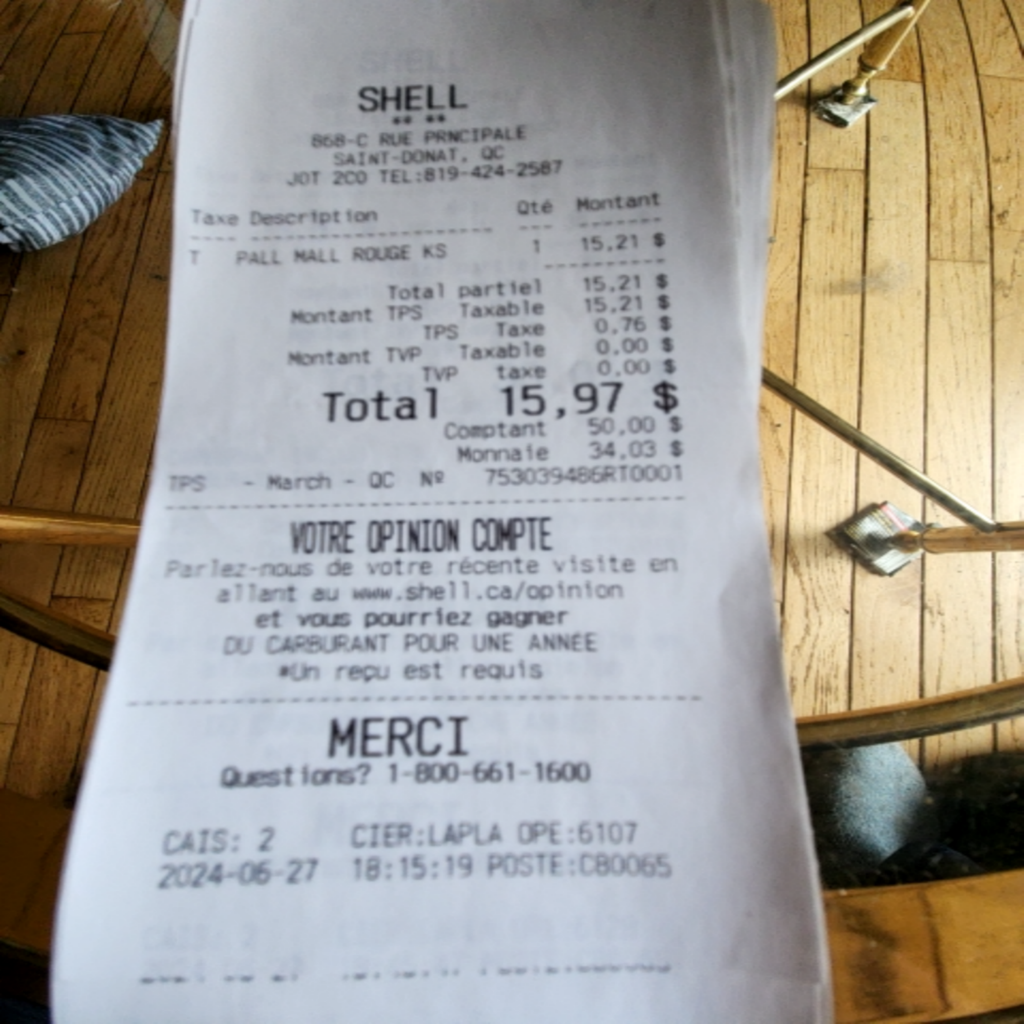recipt: (46, 0, 839, 1009)
